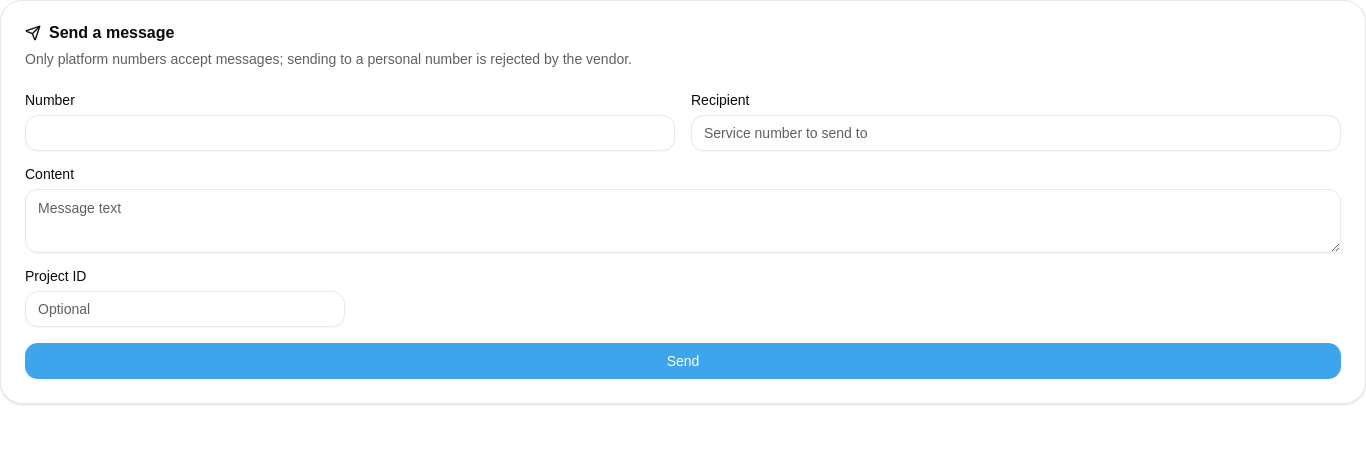
Scenario: sending requires the message body before it reaches the vendor
What coordinates should you click on to do the following:
click the button "Send"
I would click on:
 (683, 361)
Its box is 25,343 -> 1341,379.
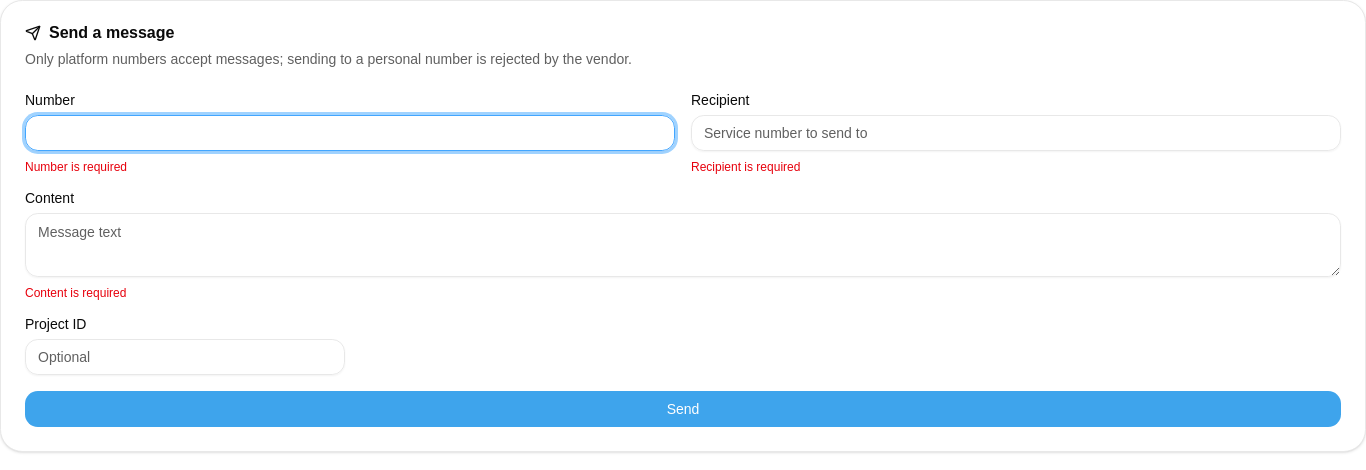
Expected: the text "Content is required" is shown, 25,286 -> 126,300
